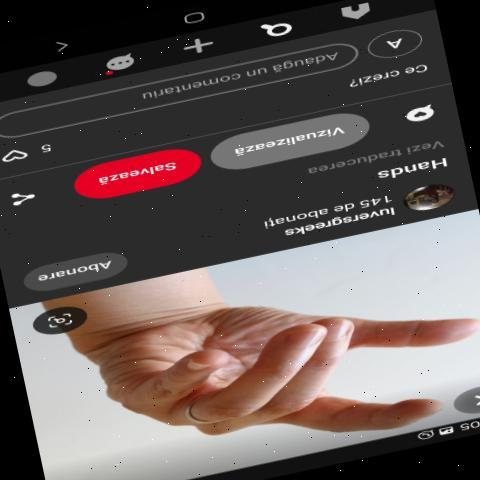Hands: (26, 291, 480, 450)
